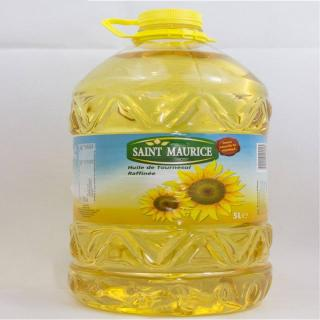Plastic-bottle: (66, 8, 282, 320)
